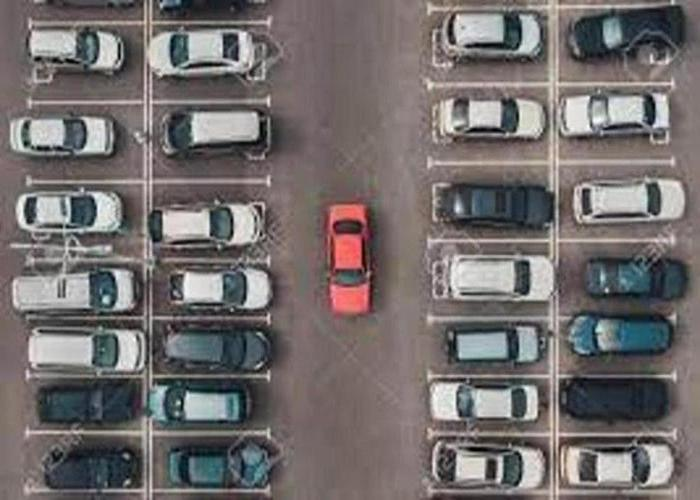occupied: (556, 9, 676, 85), (144, 194, 277, 252), (424, 248, 557, 306), (11, 254, 144, 312), (19, 315, 147, 375), (558, 316, 679, 377), (431, 376, 554, 434), (152, 103, 279, 159), (431, 434, 553, 492), (567, 170, 694, 225), (555, 438, 679, 494), (146, 20, 265, 78), (433, 89, 547, 149), (431, 179, 557, 233), (3, 108, 120, 166), (441, 311, 557, 369), (533, 84, 659, 137), (7, 181, 126, 237), (559, 370, 682, 424), (569, 251, 692, 304), (147, 435, 268, 488), (28, 378, 144, 433), (428, 6, 539, 62), (34, 446, 147, 500), (157, 320, 280, 369), (166, 263, 283, 314), (22, 25, 133, 78), (148, 377, 254, 429)
